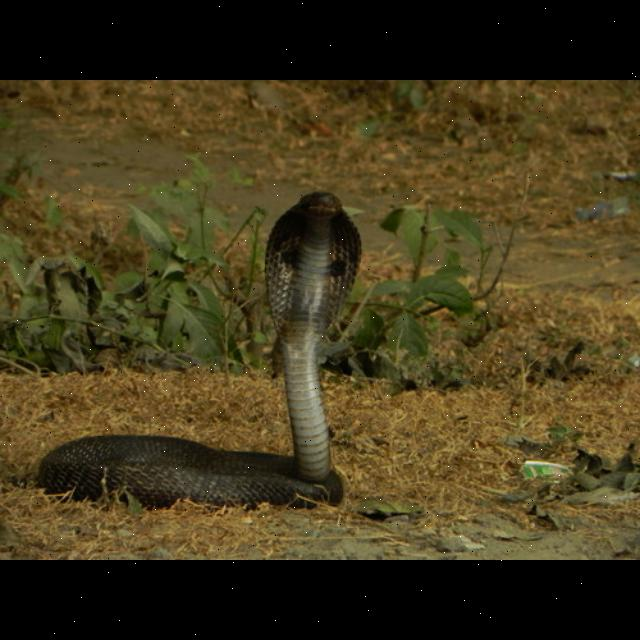snake: (0, 175, 374, 513)
